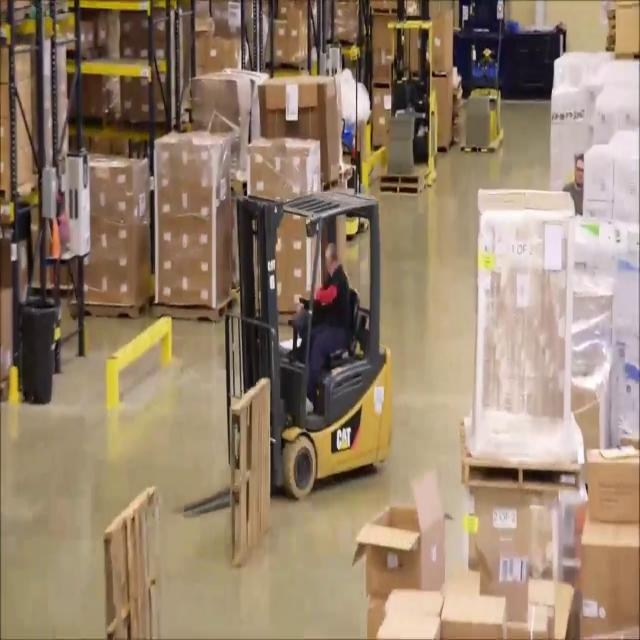Chariot elevateur: (234, 167, 399, 505)
